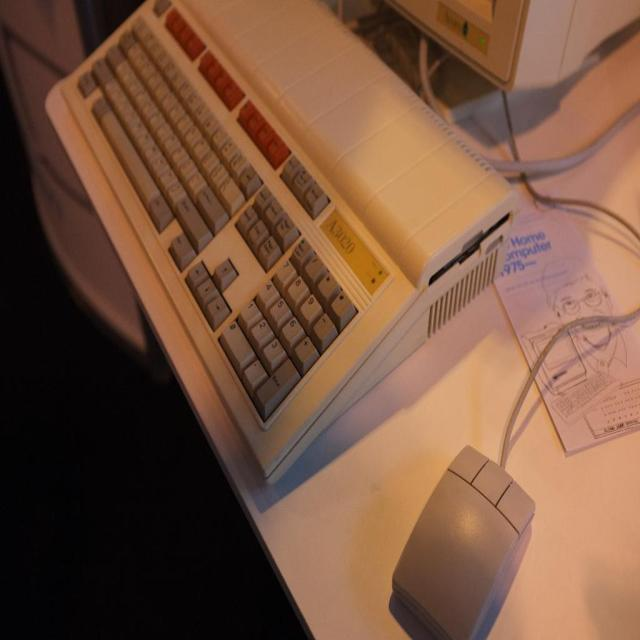Computer-mouse: (390, 443, 538, 639)
